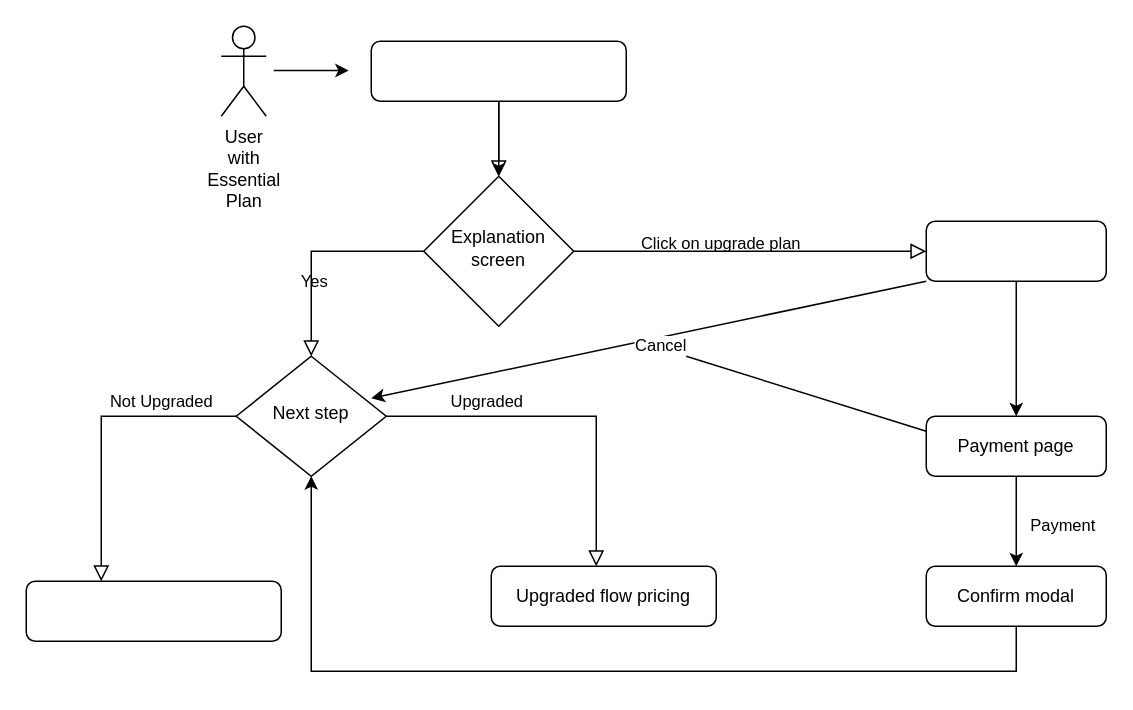
Some shapes in this 1133 by 710 pixel diagram are drawn without their labels. Each missing label, with the box of its shape:
Compliance Feature: (370, 40, 626, 101)
Essential package pricing: (25, 580, 281, 641)
Upgrade modal: (925, 220, 1106, 281)
